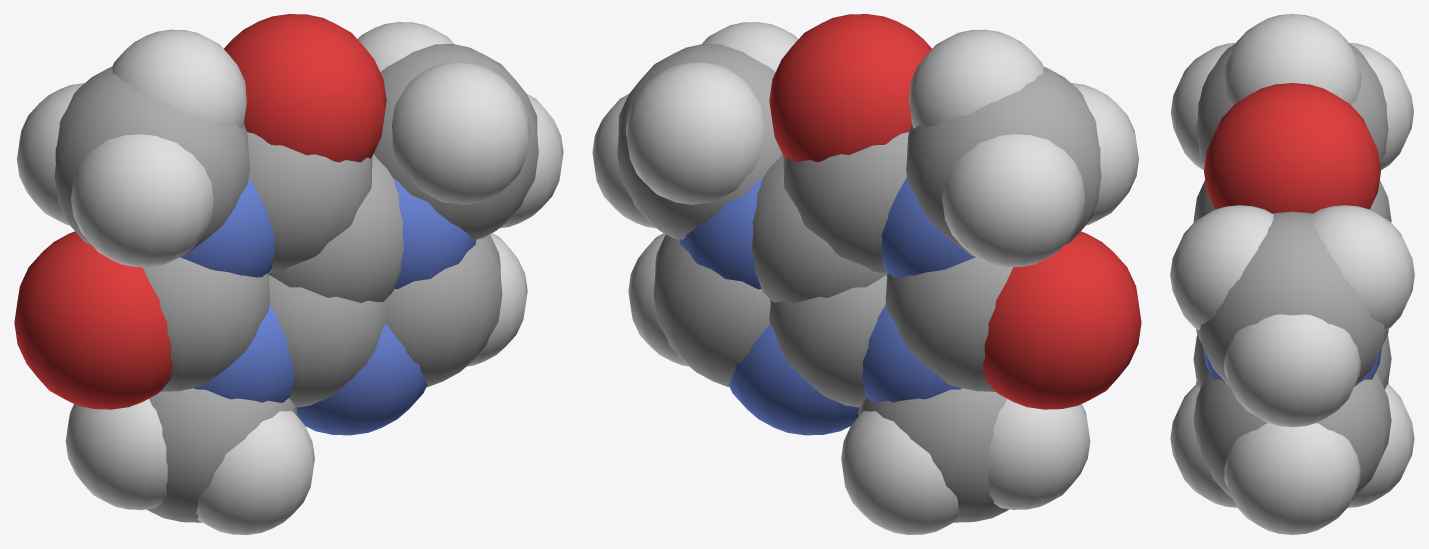
Rendered from caffeine-cpk.glb.
3 views of the same model, side by side, from view 1: azimuth 30°, elevation 25°; view 2: azimuth 150°, elevation 25°; view 3: azimuth 270°, elevation 25° (orthographic). The views are drawn at different scales.
Visible parts, largest first — view 1: caffeine-cpk; view 2: caffeine-cpk; view 3: caffeine-cpk.
Part boxes in pixels (box(x1,y1,x2,y2)): caffeine-cpk: box(14, 14, 563, 534); caffeine-cpk: box(592, 14, 1141, 534); caffeine-cpk: box(1170, 14, 1414, 534).
Size of the model in its own units: 10.05 by 8.76 by 4.2.
